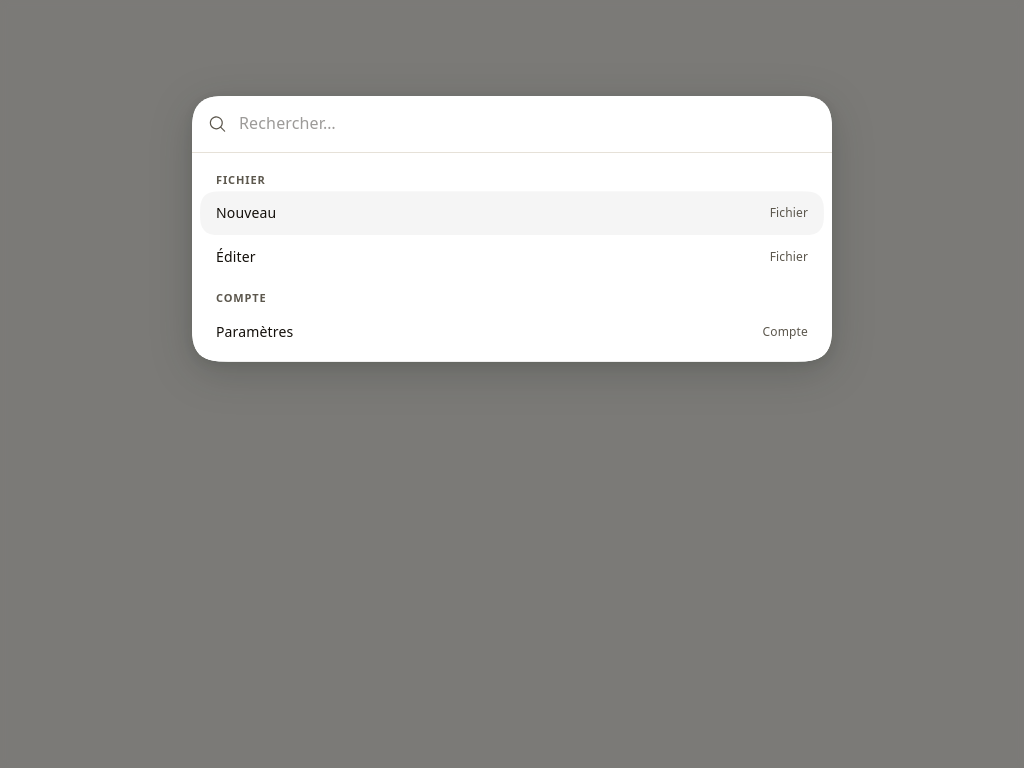
Test: CommandPalette › replie le combobox et annonce le message vide sans résultat
Type "zzzzz" into the dropdown. click: [528, 124]
box: [239,108,816,140]
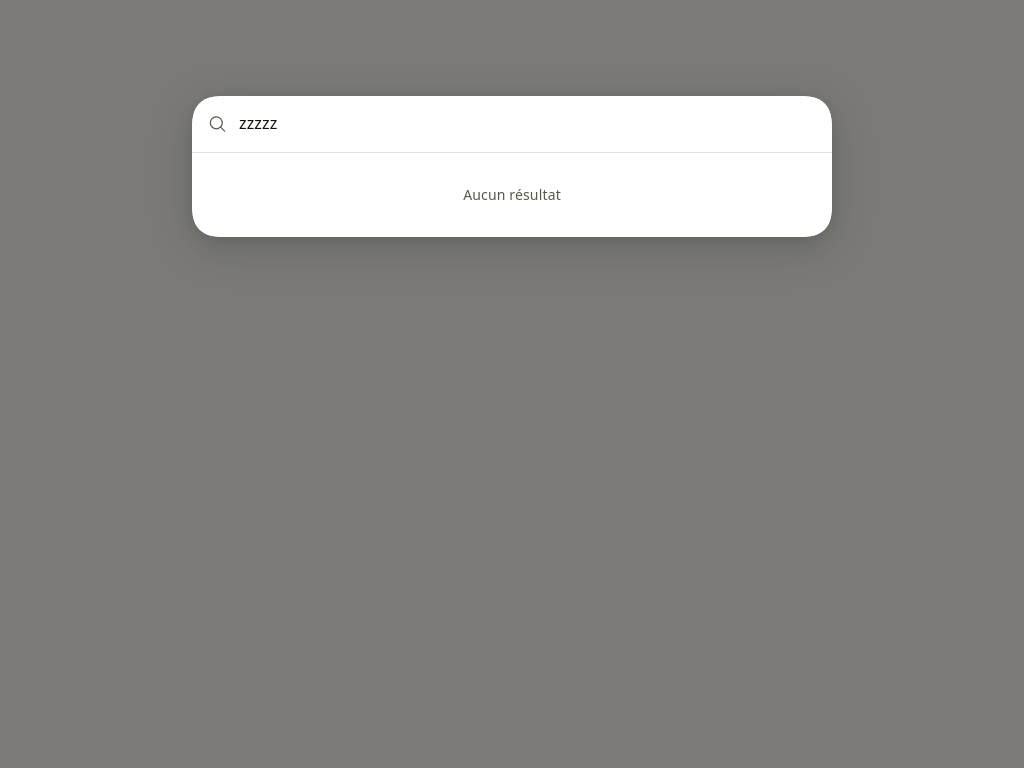
Expected: the dropdown is collapsed, [239,108,816,140]
Expected: the message reads "Aucun résultat", [463,185,561,204]
